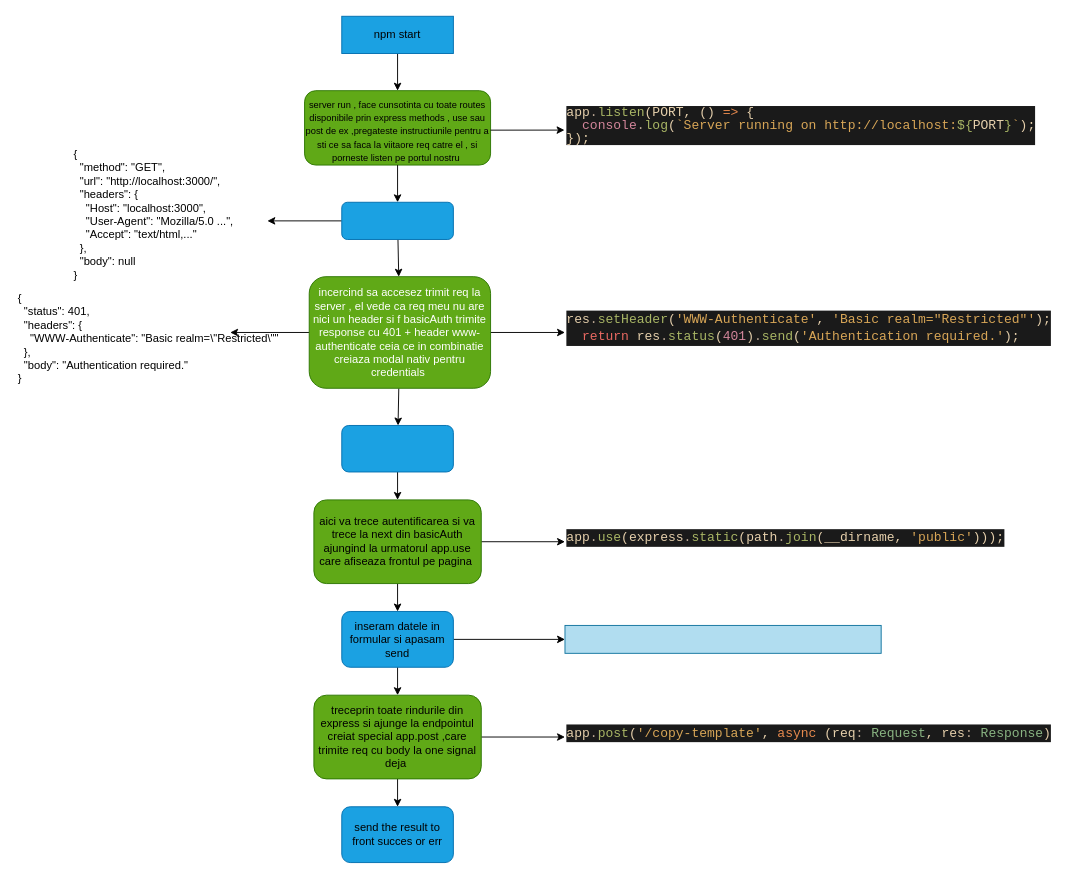
The diagram is 1067 pixels wide and 879 high, and some of its shapes have lost their labels. Here are the shapes that lost their labels. From the top down, the box of each, then its label:
(341, 201, 453, 239): localhost:PORT
(341, 425, 453, 472): inseram datele si retrimitem alt req cu date pentru auth
(564, 624, 881, 653): fetch('/copy-template', { method: 'POST', ... })
